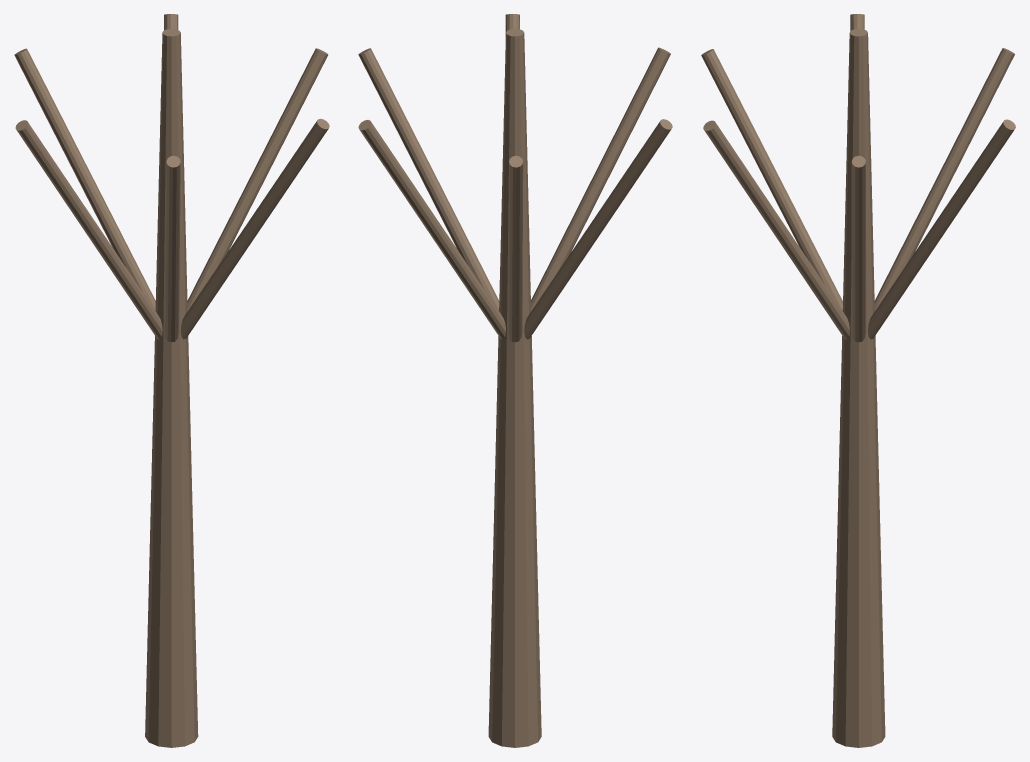
File: ENV-TREE.glb
3 views of the same model, side by side, from view 1: azimuth 30°, elevation 25°; view 2: azimuth 150°, elevation 25°; view 3: azimuth 270°, elevation 25° (orthographic).
Visible parts, largest first — view 1: trunk, branch (×5); view 2: trunk, branch (×5); view 3: trunk, branch (×5).
Part boxes in pixels (x1=…): trunk: x1=145, y1=28, x2=198, y2=747; branch (×5): x1=14, y1=48, x2=329, y2=342; trunk: x1=488, y1=28, x2=541, y2=747; branch (×5): x1=358, y1=47, x2=672, y2=342; trunk: x1=832, y1=28, x2=885, y2=747; branch (×5): x1=701, y1=48, x2=1015, y2=342.
Size of the model in its own units: 1.76 by 3.8 by 1.54.
